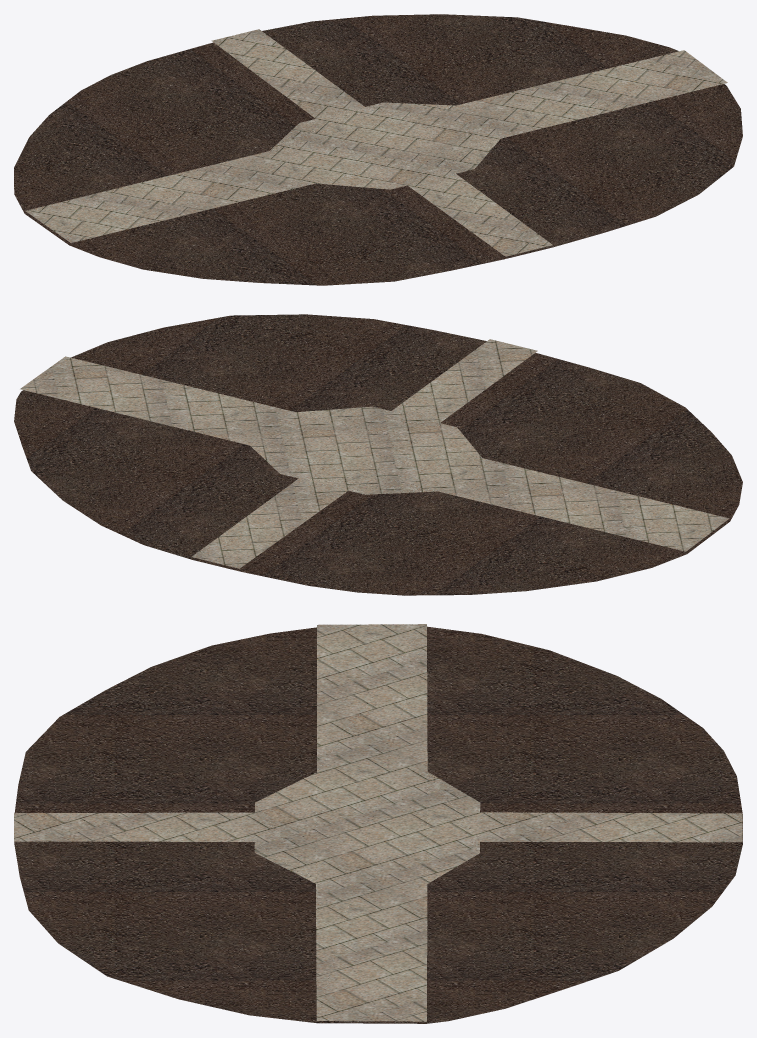
File: FoundersCircle.gltf
The picture shows the model from 3 angles, top to bottom: view 1: azimuth 30°, elevation 25°; view 2: azimuth 150°, elevation 25°; view 3: azimuth 270°, elevation 25°; orthographic projection. The views are drawn at different scales.
Parts seen in each view (by area): view 1: Plane; view 2: Plane; view 3: Plane.
Part boxes in pixels (x1=…): Plane: x1=14, y1=14, x2=742, y2=285; Plane: x1=14, y1=314, x2=742, y2=595; Plane: x1=14, y1=624, x2=742, y2=1023.
Size of the model in its own units: 27.38 by 0.0965 by 21.19.
2 materials, 2 textured.
